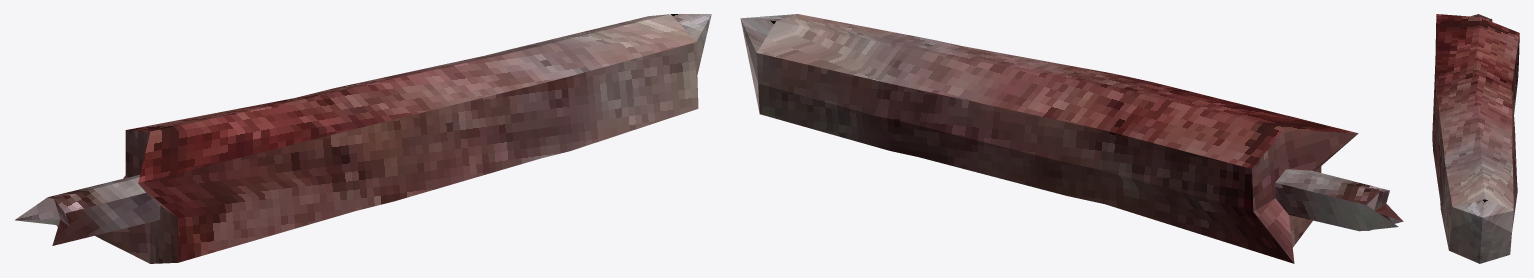
File: finger.glb
The picture shows the model from 3 angles, left to right: view 1: azimuth 30°, elevation 25°; view 2: azimuth 150°, elevation 25°; view 3: azimuth 270°, elevation 25°; orthographic projection. The views are drawn at different scales.
Parts seen in each view (by area): view 1: finger; view 2: finger; view 3: finger.
Boxes of the visible parts, box(x1,y1,x2,y2) form: finger: box(15, 14, 711, 263); finger: box(740, 14, 1403, 263); finger: box(1432, 14, 1519, 263).
Size of the model in its own units: 0.6455 by 0.1167 by 0.1046.
Materials: 1 (1 with a texture image).
